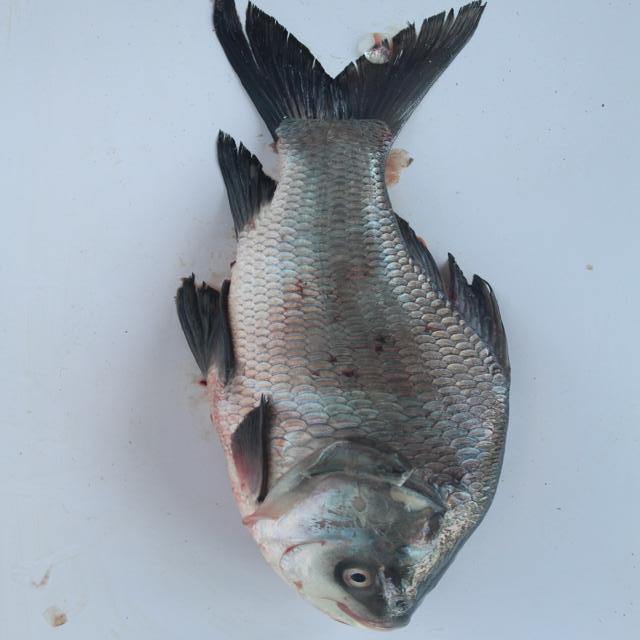Catla: (170, 1, 519, 633)
